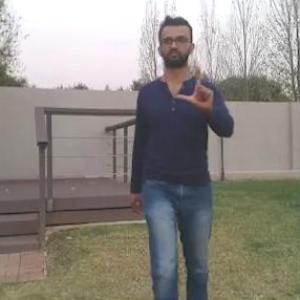land_hand: (175, 59, 217, 109)
